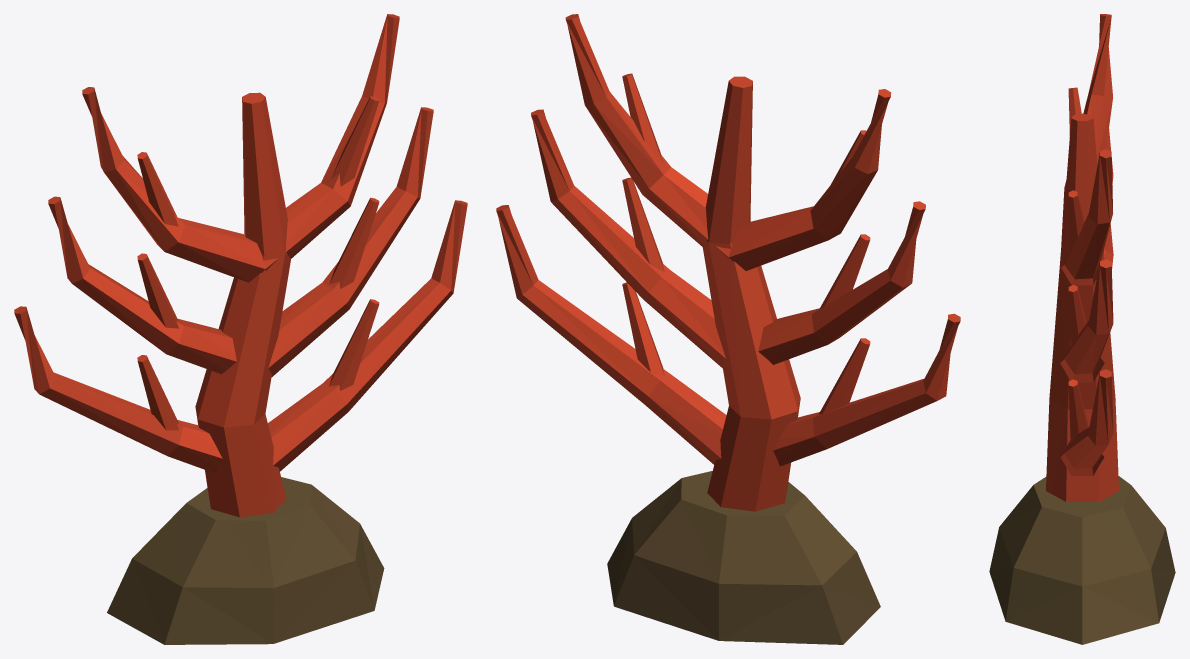
File: EM_FanCoral.fbx
3 views of the same model, side by side, from view 1: azimuth 30°, elevation 25°; view 2: azimuth 150°, elevation 25°; view 3: azimuth 270°, elevation 25° (orthographic). The views are drawn at different scales.
Visible parts, largest first — view 1: EM_FanCoral; view 2: EM_FanCoral; view 3: EM_FanCoral.
Part boxes in pixels (<box>): EM_FanCoral: <box>14,14,467,644</box>; EM_FanCoral: <box>496,14,960,644</box>; EM_FanCoral: <box>989,14,1175,644</box>.
Size of the model in its own units: 0.9349 by 1.06 by 0.3571.
